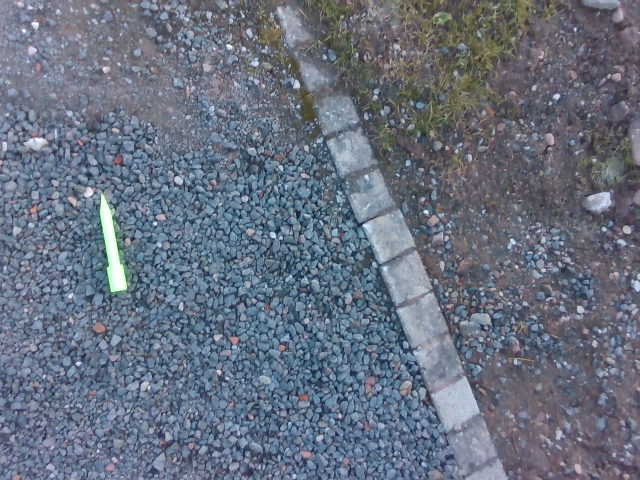Probe: (97, 190, 129, 302)
